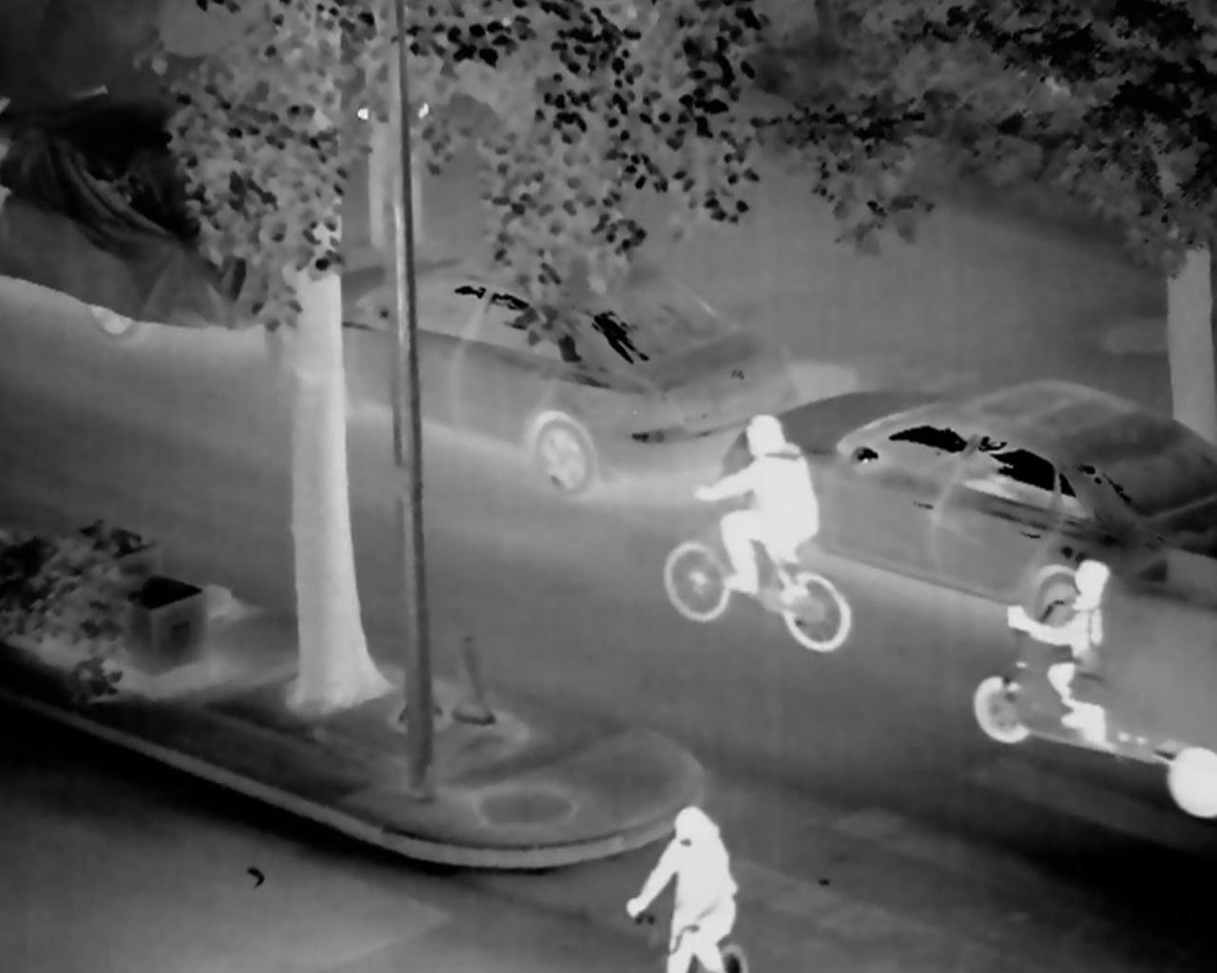person: (699, 409, 827, 641), (1002, 553, 1129, 742), (624, 802, 748, 973)
